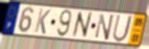6: (17, 6, 35, 34)
9: (56, 9, 73, 38)
K: (33, 8, 52, 36)
N: (71, 11, 93, 40), (94, 13, 115, 42)
U: (111, 14, 134, 44)
